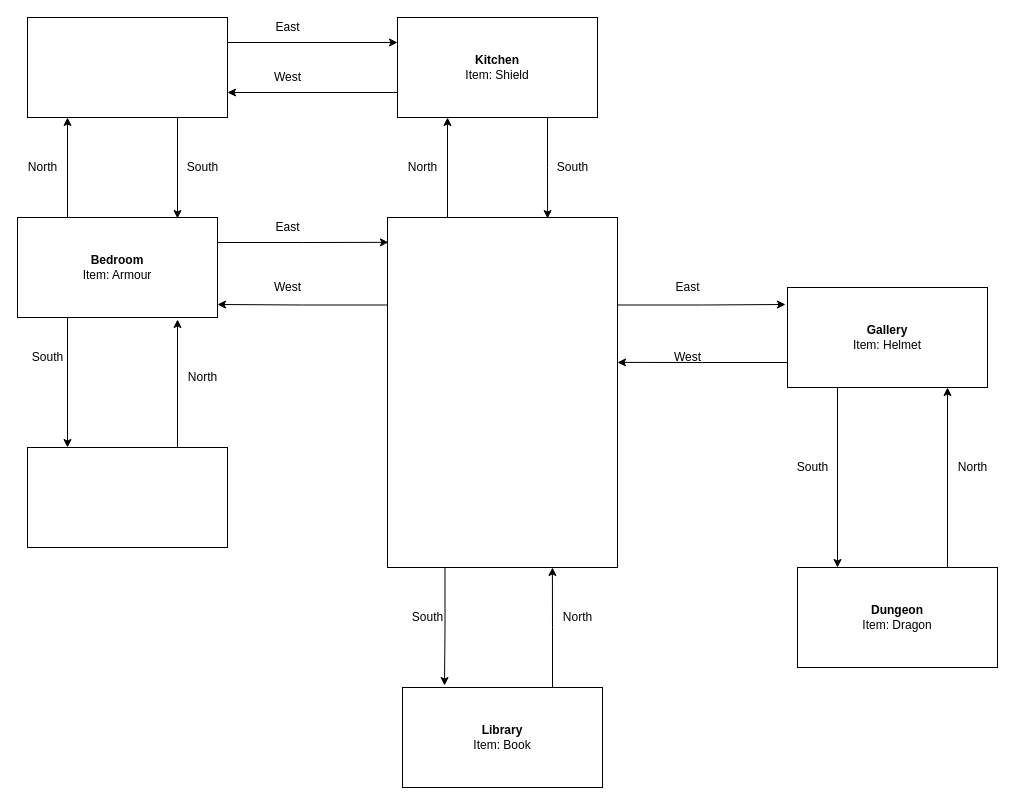
Some shapes in this 1015 by 805 pixel diagram are drawn without their labels. Here are the shapes that lost their labels. From the top down, the centre of each, then its label:
[127,67]: Dining Room Item: Bow
[502,392]: Great Hall
[127,497]: Cellar Item: Arrows
